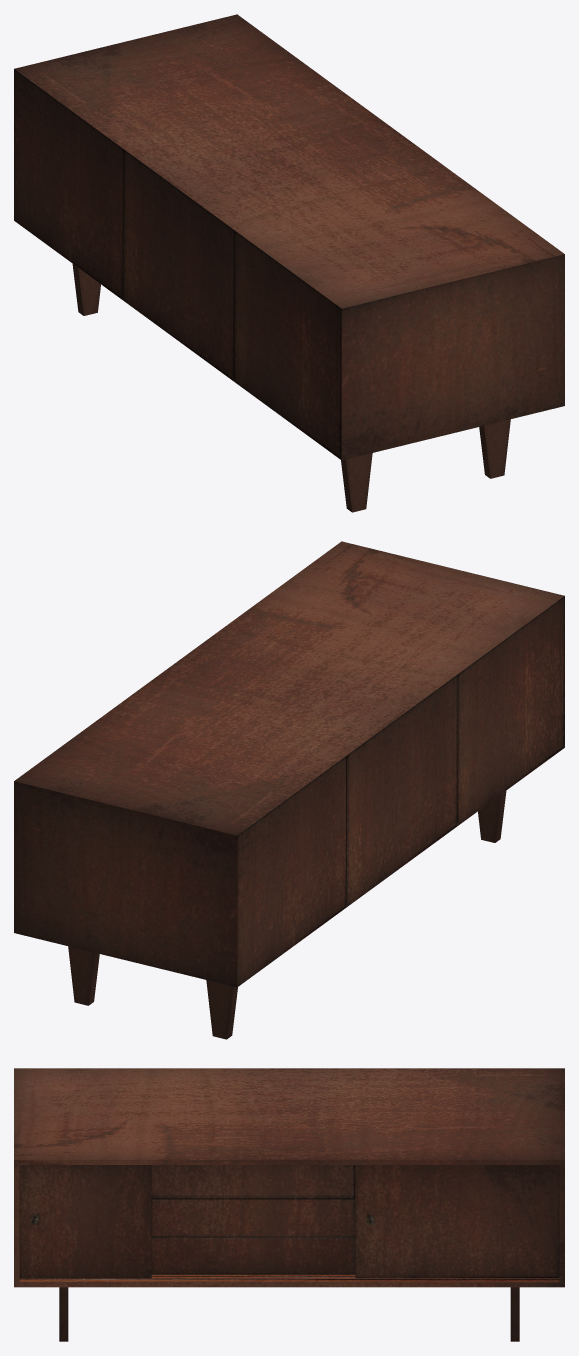
Rendered from TV_table_1.fbx.
The picture shows the model from 3 angles, top to bottom: view 1: azimuth 30°, elevation 25°; view 2: azimuth 150°, elevation 25°; view 3: azimuth 270°, elevation 25°; orthographic projection. The views are drawn at different scales.
Visible parts, largest first — view 1: TV_table.001; view 2: TV_table.001; view 3: TV_table.001.
Part boxes in pixels (bbox=[...]): TV_table.001: bbox=[14, 14, 564, 512]; TV_table.001: bbox=[14, 541, 564, 1039]; TV_table.001: bbox=[14, 1068, 564, 1341].
Size of the model in its own units: 49.2 by 49 by 125.
